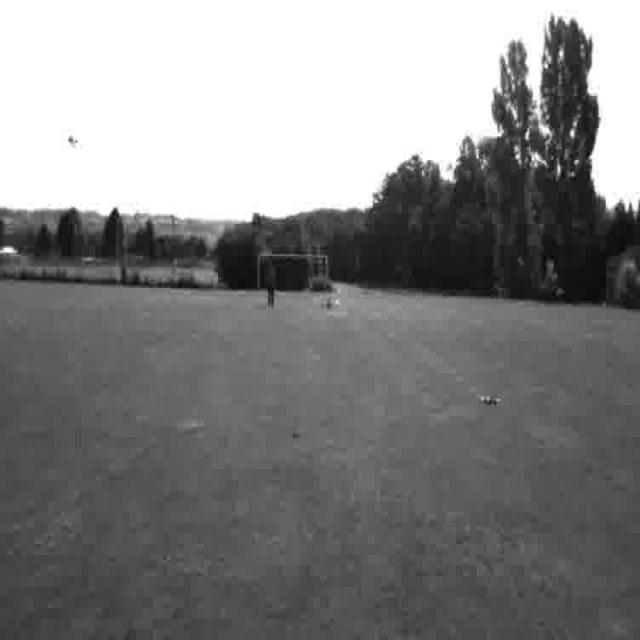drones: (475, 387, 505, 412), (318, 294, 342, 316)
